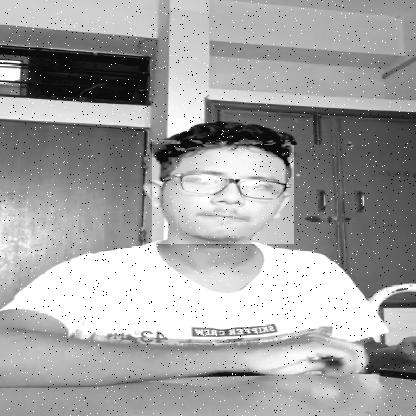Normal: (152, 140, 294, 244)
